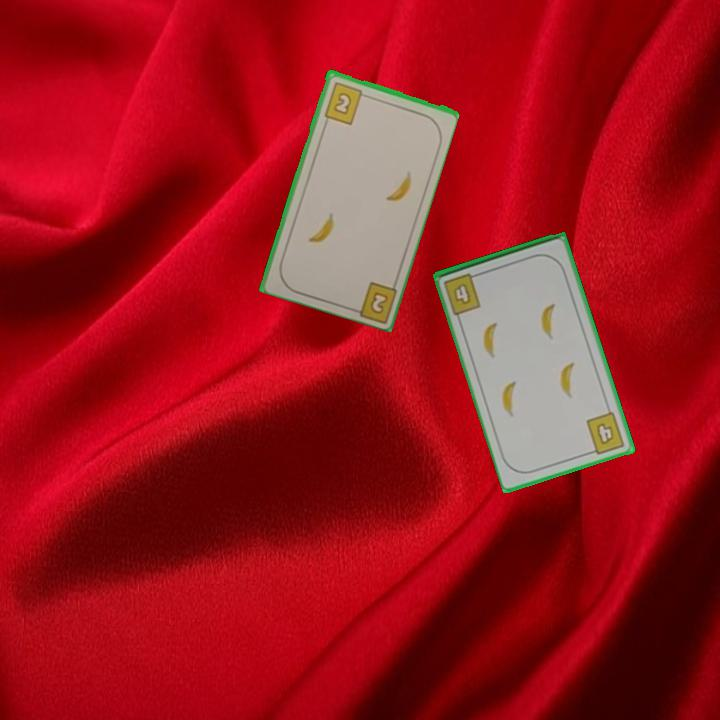2b: (320, 78, 370, 127), (366, 288, 391, 317)
4b: (583, 408, 628, 458), (440, 269, 484, 318)
